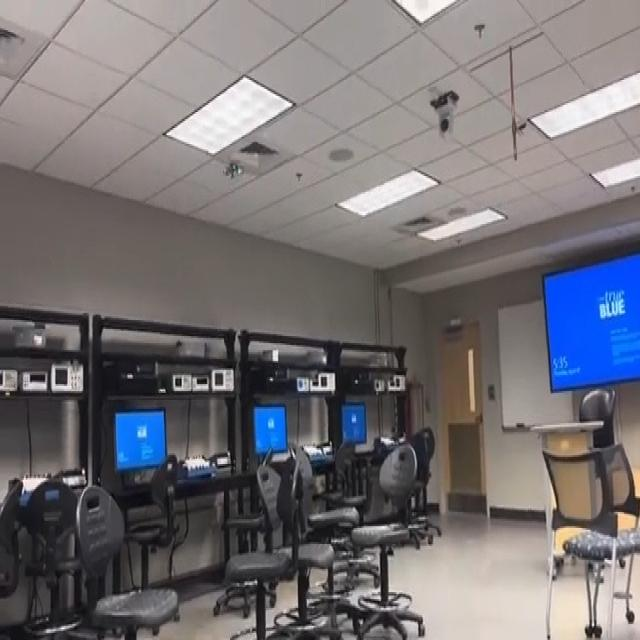drone: (218, 151, 248, 187)
